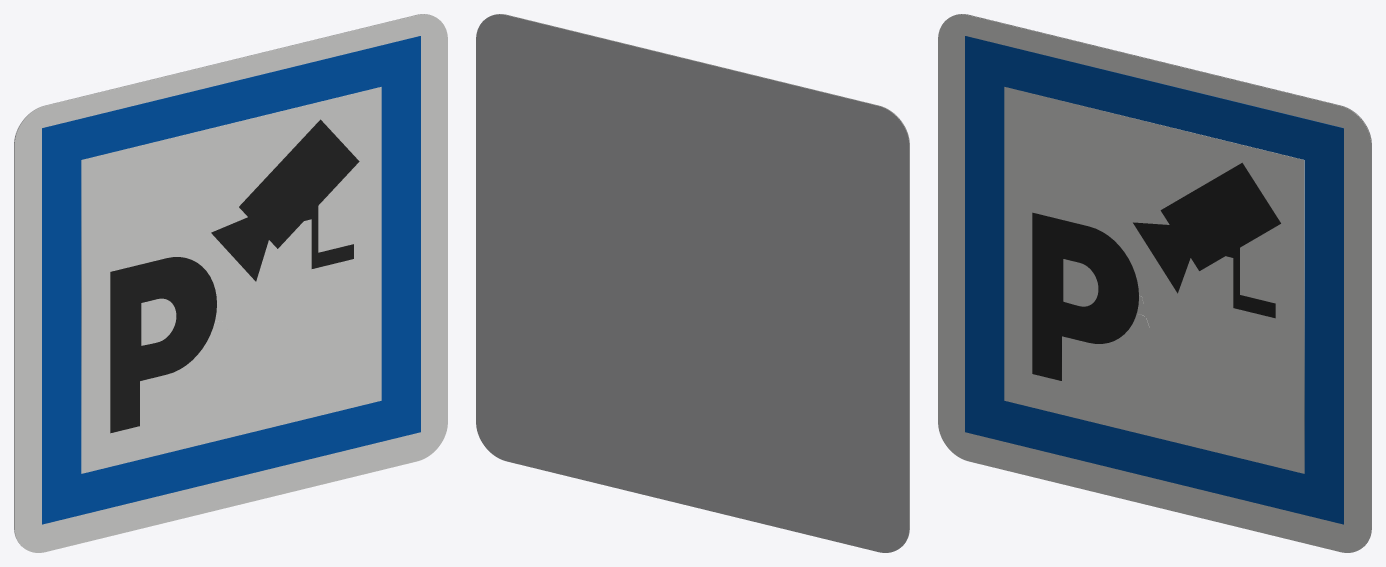
The picture shows the model from 3 angles, left to right: view 1: azimuth 30°, elevation 25°; view 2: azimuth 150°, elevation 25°; view 3: azimuth 330°, elevation 25°; orthographic projection.
Visible parts, largest first — view 1: CE9_p02, CE9_p01, CE9_p00, CE9_p05, CE9_p06, CE9_dos; view 2: CE9_dos, CE9_p00; view 3: CE9_p02, CE9_p01, CE9_p00, CE9_p05, CE9_p06, CE9_dos.
Part boxes in pixels (x1=…): CE9_p02: x1=81, y1=87, x2=381, y2=473; CE9_p01: x1=42, y1=36, x2=420, y2=524; CE9_p00: x1=14, y1=14, x2=447, y2=552; CE9_p05: x1=110, y1=257, x2=216, y2=433; CE9_p06: x1=211, y1=119, x2=359, y2=281; CE9_dos: x1=14, y1=14, x2=430, y2=546; CE9_dos: x1=476, y1=14, x2=909, y2=552; CE9_p00: x1=493, y1=14, x2=909, y2=546; CE9_p02: x1=1004, y1=87, x2=1304, y2=473; CE9_p01: x1=965, y1=36, x2=1343, y2=524; CE9_p00: x1=938, y1=14, x2=1371, y2=552; CE9_p05: x1=1032, y1=212, x2=1138, y2=380; CE9_p06: x1=1133, y1=162, x2=1280, y2=318; CE9_dos: x1=955, y1=14, x2=1371, y2=546.
Size of the model in its own units: 0.7 by 0.6889 by 0.0043.
